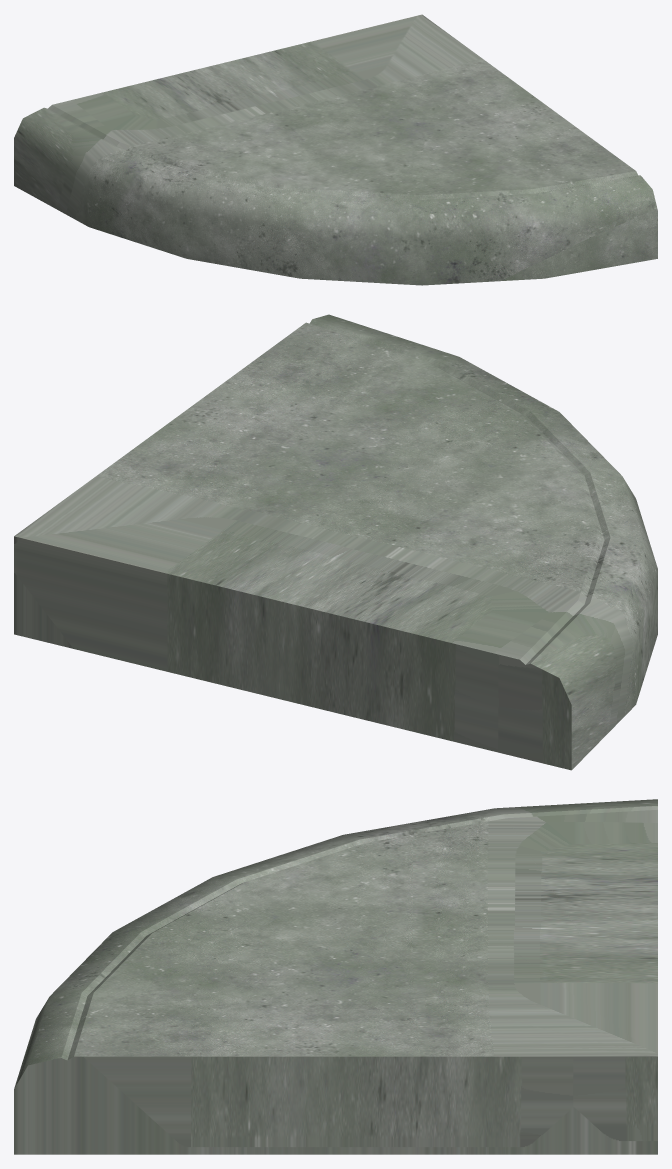
The model's file is SideWalkConnect.fbx.
The picture shows the model from 3 angles, top to bottom: view 1: azimuth 30°, elevation 25°; view 2: azimuth 150°, elevation 25°; view 3: azimuth 270°, elevation 25°; orthographic projection. The views are drawn at different scales.
Parts seen in each view (by area): view 1: SideWalkConnector; view 2: SideWalkConnector; view 3: SideWalkConnector.
Boxes of the visible parts, x1=… form: SideWalkConnector: x1=14, y1=14, x2=657, y2=285; SideWalkConnector: x1=14, y1=314, x2=657, y2=770; SideWalkConnector: x1=14, y1=799, x2=657, y2=1154.
Bounding box in the file's own units: 229 × 38.42 × 229.
